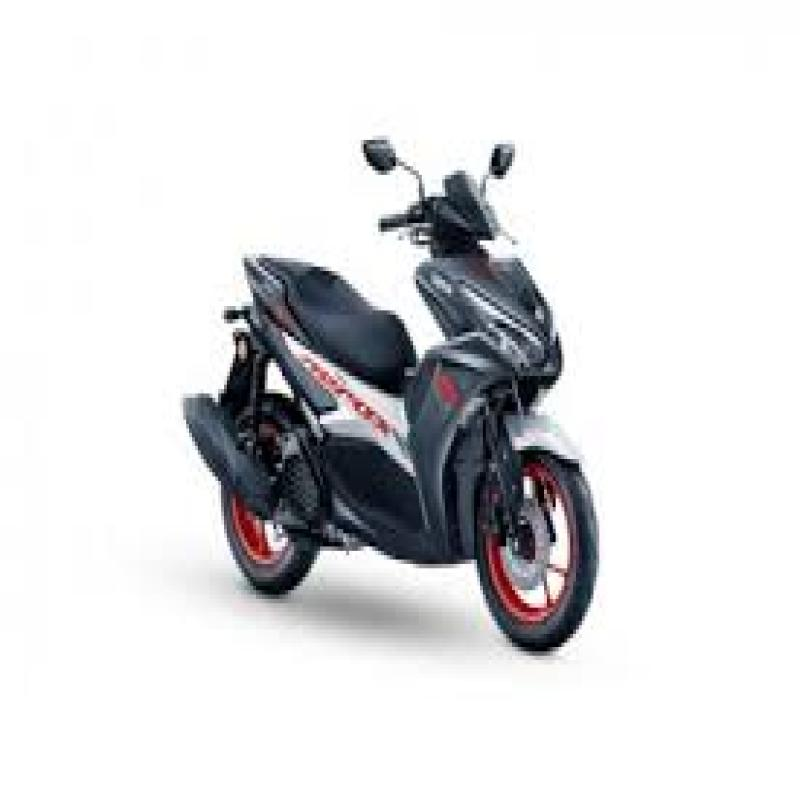bike: (184, 123, 617, 694)
